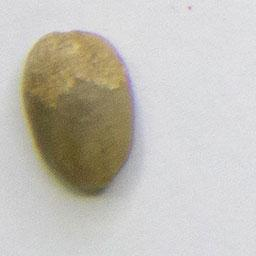longberry: (17, 25, 140, 197)
